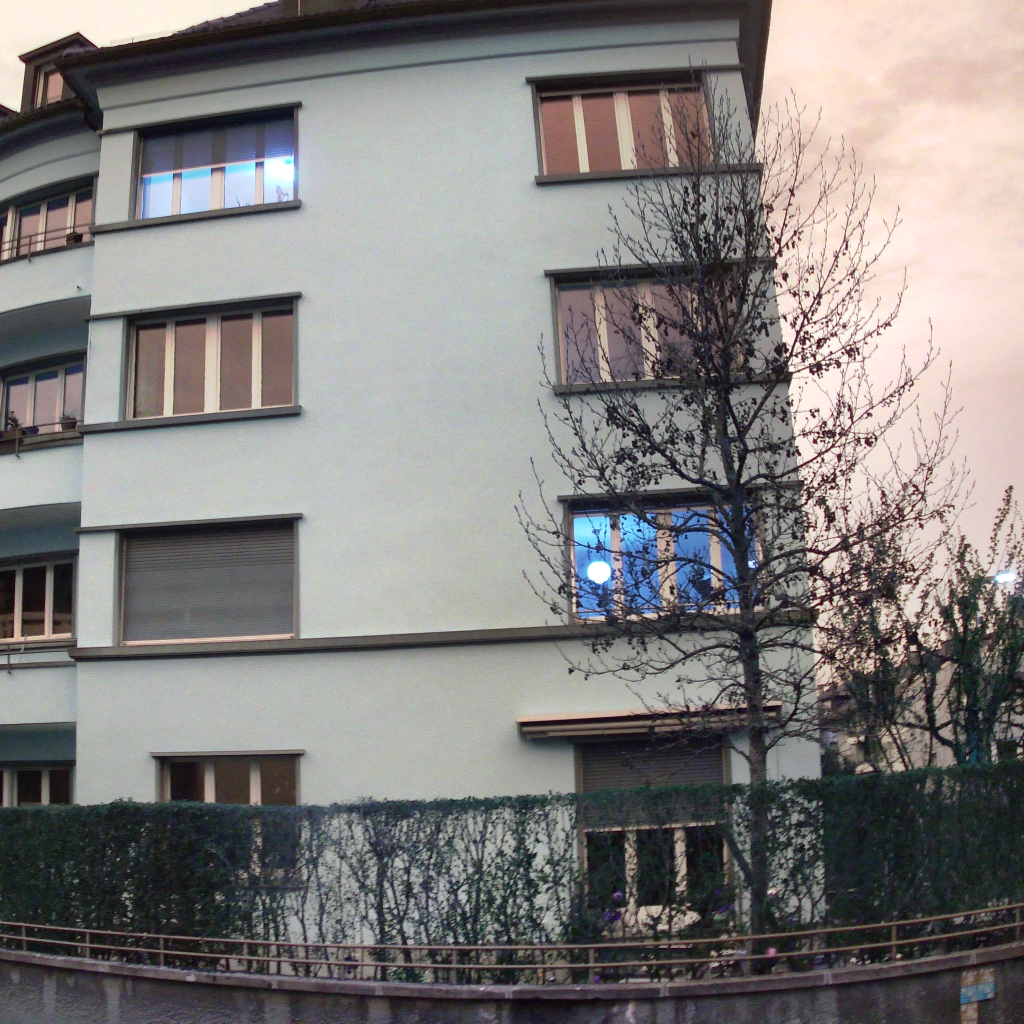glass panel: (558, 285, 600, 383), (573, 514, 613, 616), (619, 514, 659, 611), (603, 287, 645, 379), (672, 509, 711, 604), (261, 311, 294, 407), (628, 90, 668, 168), (220, 315, 252, 409), (134, 324, 166, 418), (582, 94, 621, 171), (636, 828, 675, 905), (540, 97, 579, 173), (173, 320, 204, 414), (259, 756, 296, 805), (22, 566, 46, 635), (33, 370, 59, 432), (214, 758, 249, 803), (52, 562, 73, 634), (61, 364, 84, 429), (224, 162, 256, 208), (263, 156, 294, 202), (168, 761, 203, 801), (180, 167, 211, 212), (141, 173, 172, 218), (3, 377, 30, 428), (43, 197, 69, 248), (18, 204, 40, 255), (0, 569, 15, 639), (74, 189, 92, 240), (17, 769, 41, 805), (49, 768, 71, 804)
